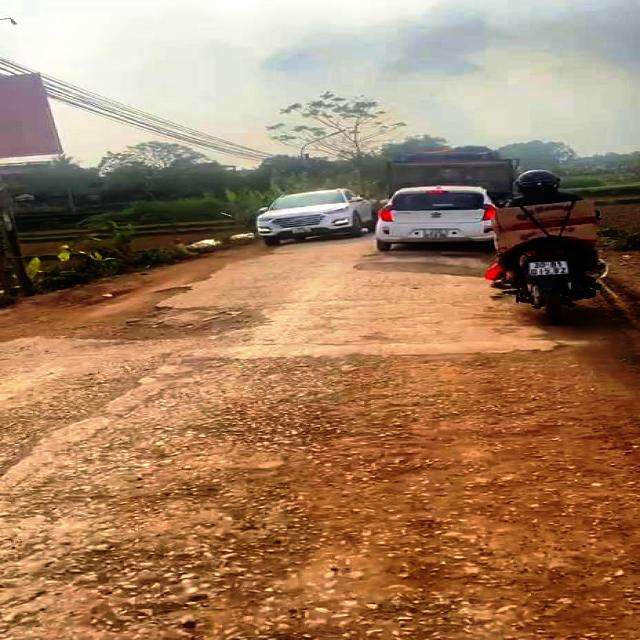pothole: (51, 524, 342, 634), (48, 286, 269, 341), (353, 260, 494, 281)
